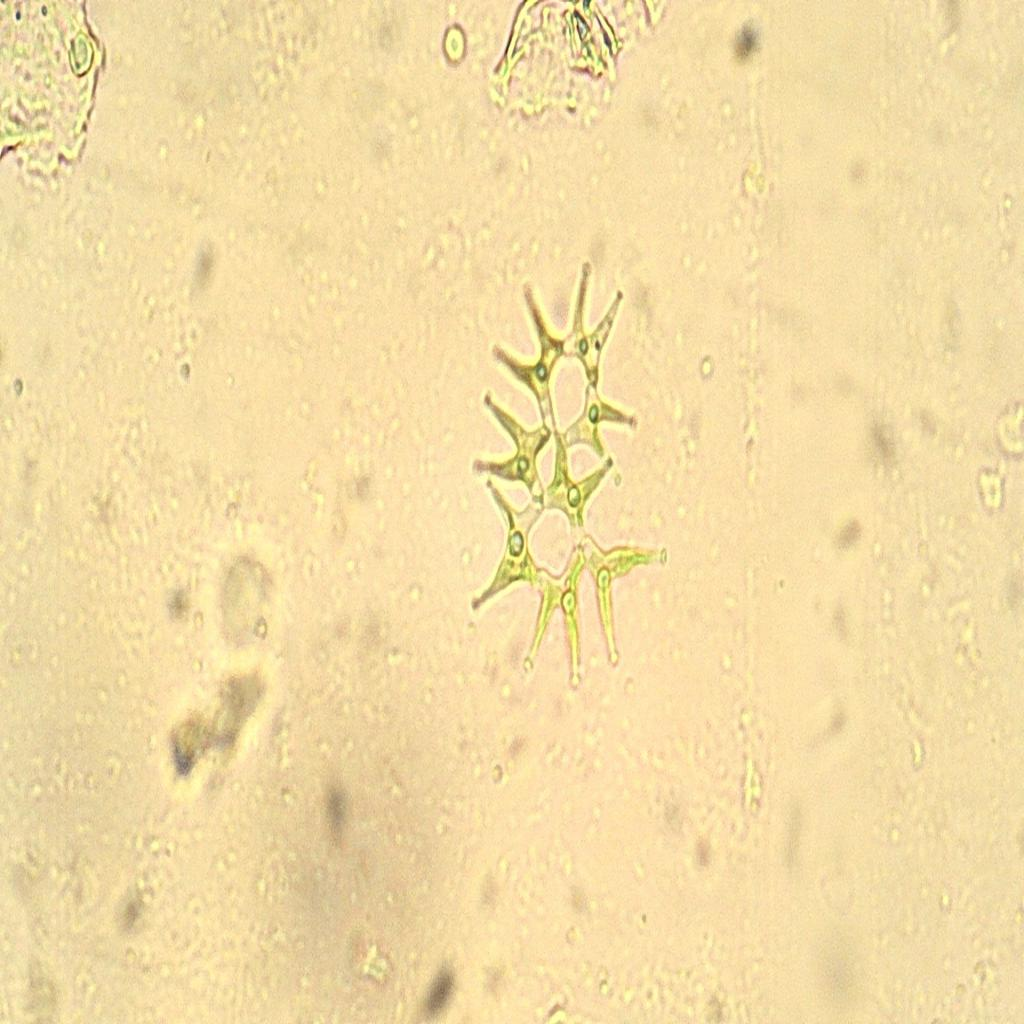Pediastrum_CFI: (459, 248, 675, 720)
